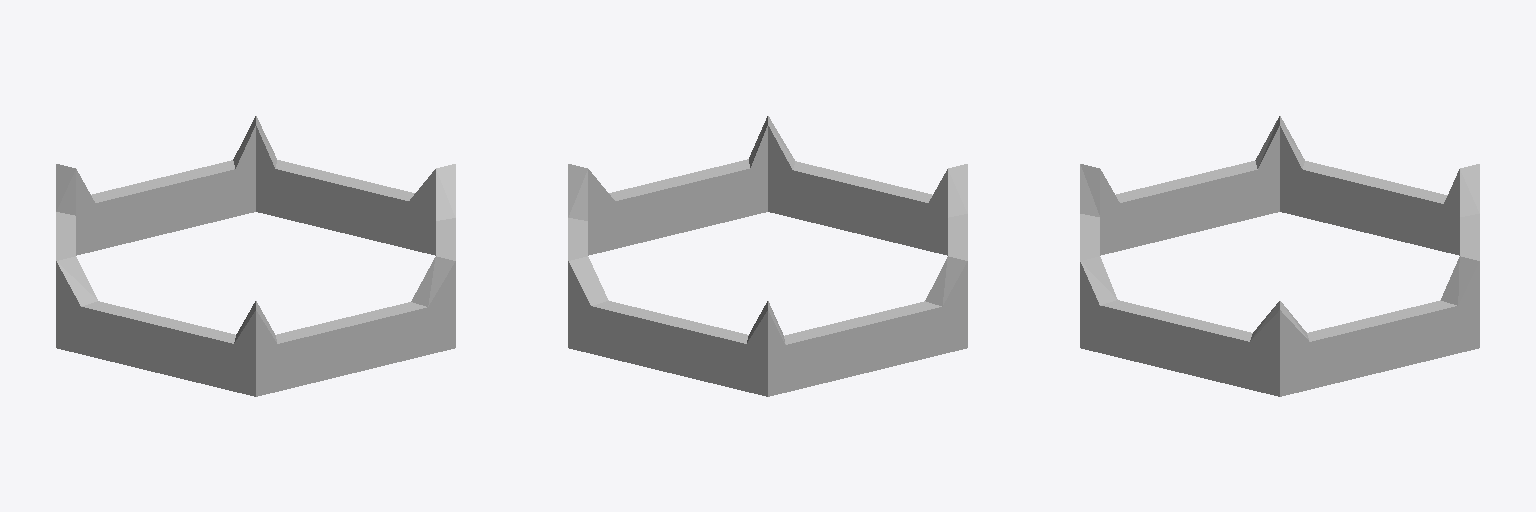
File: city.obj
3 renders of one model, left to right at view 1: azimuth 30°, elevation 25°; view 2: azimuth 150°, elevation 25°; view 3: azimuth 270°, elevation 25°, orthographic.
Bounding box in the file's own units: 2 × 0.4172 × 1.73.